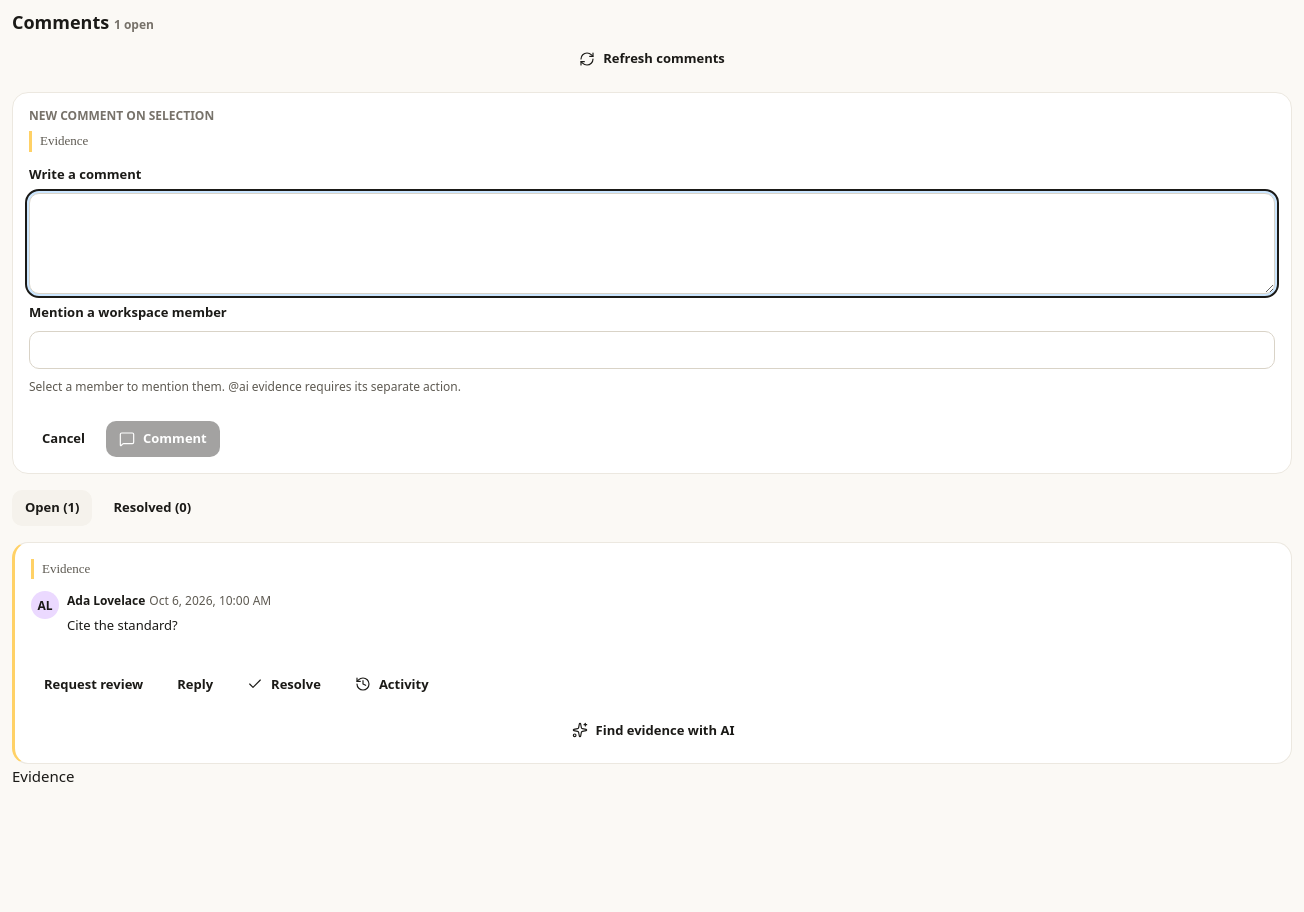
Test: retains a failed draft and retries with the same comment id, then clears it on cancel
Type "Keep my draft" into the text box labelled "Write a comment" at (652, 243), box [29,193,1275,294]
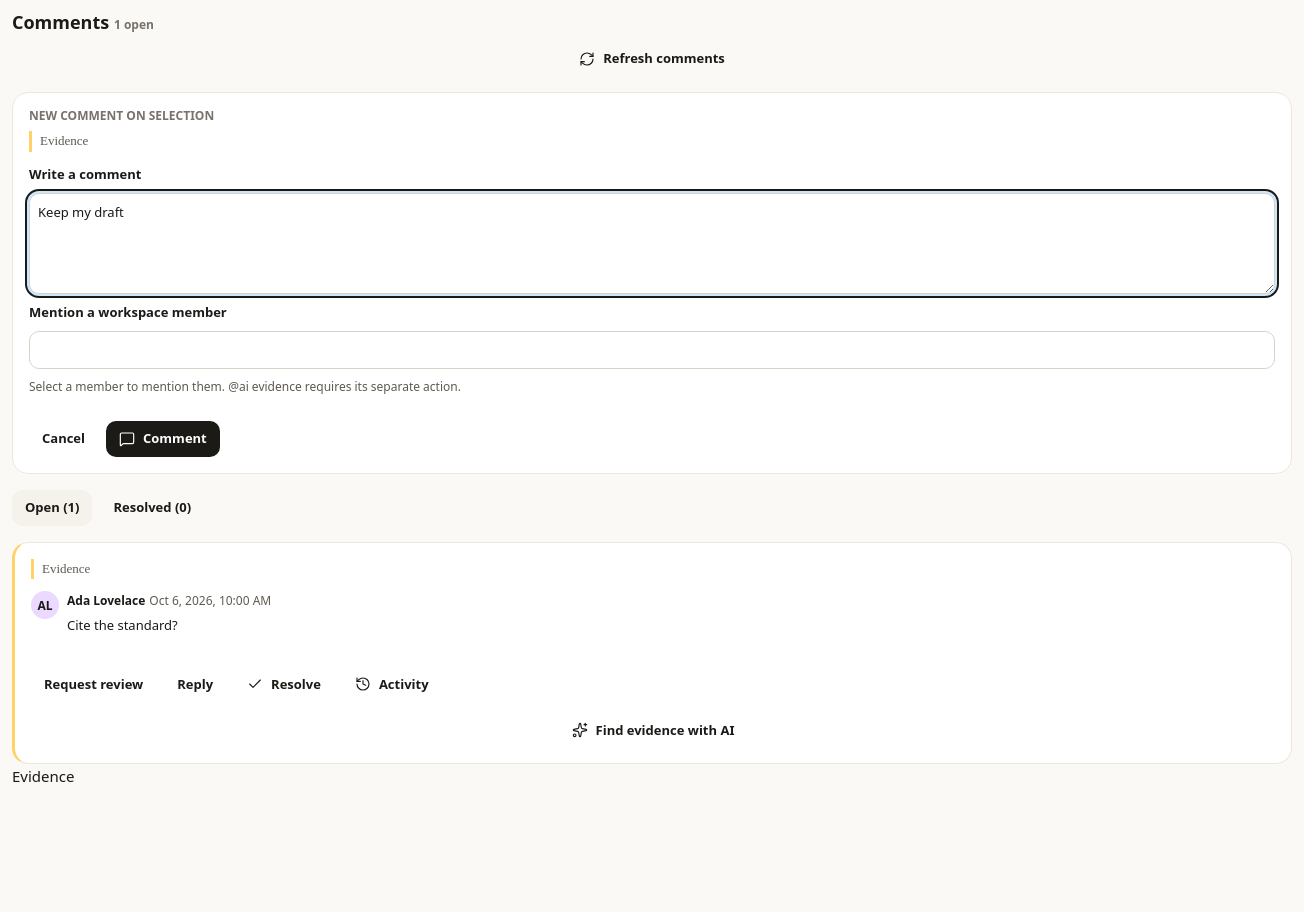
Click the button "Comment" at (163, 438), box [106,420,220,456]
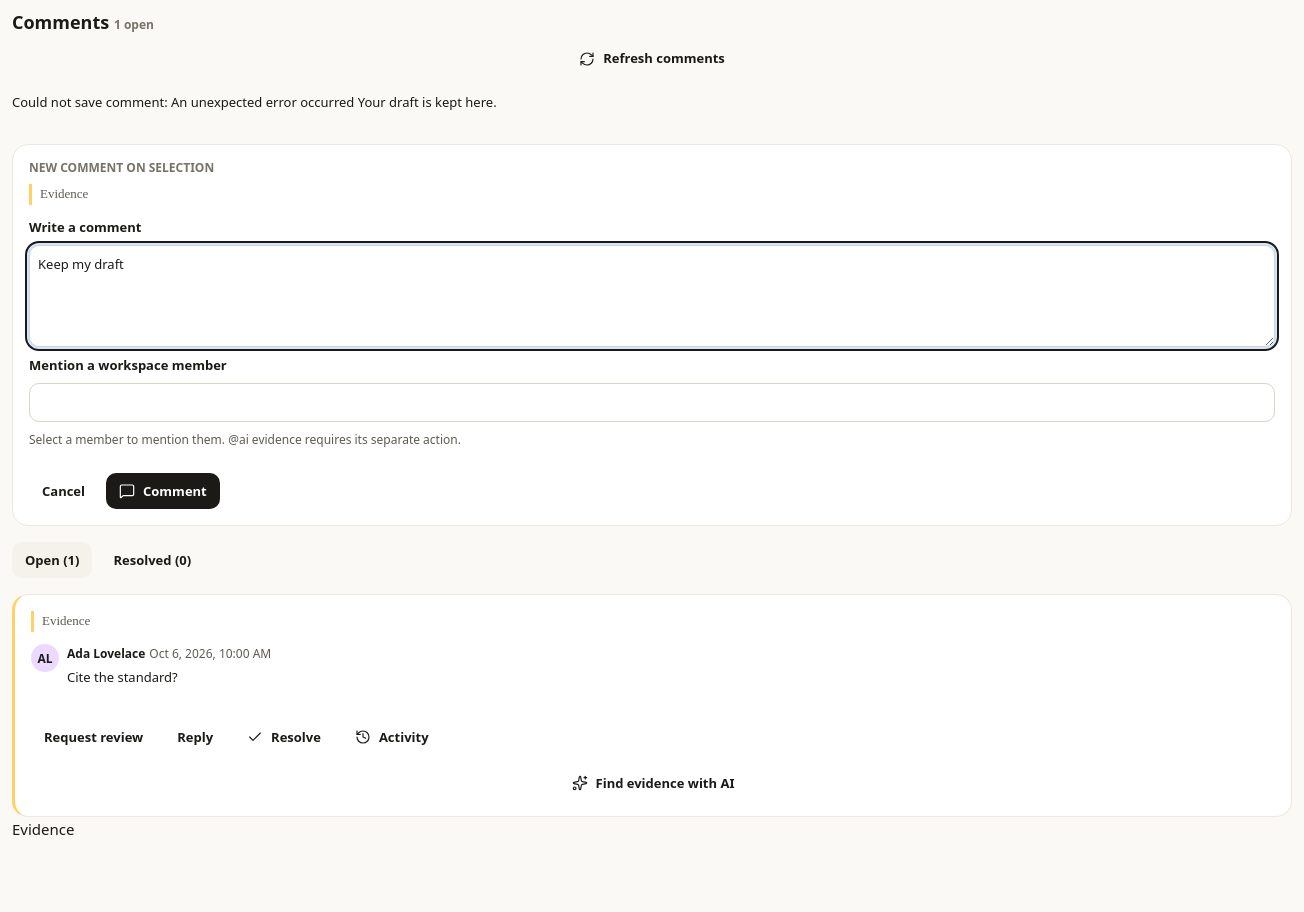
Expected: the message shows "Your draft is kept here", [358,93,497,111]
Click the button "Comment" at (163, 491), box [106,473,220,509]
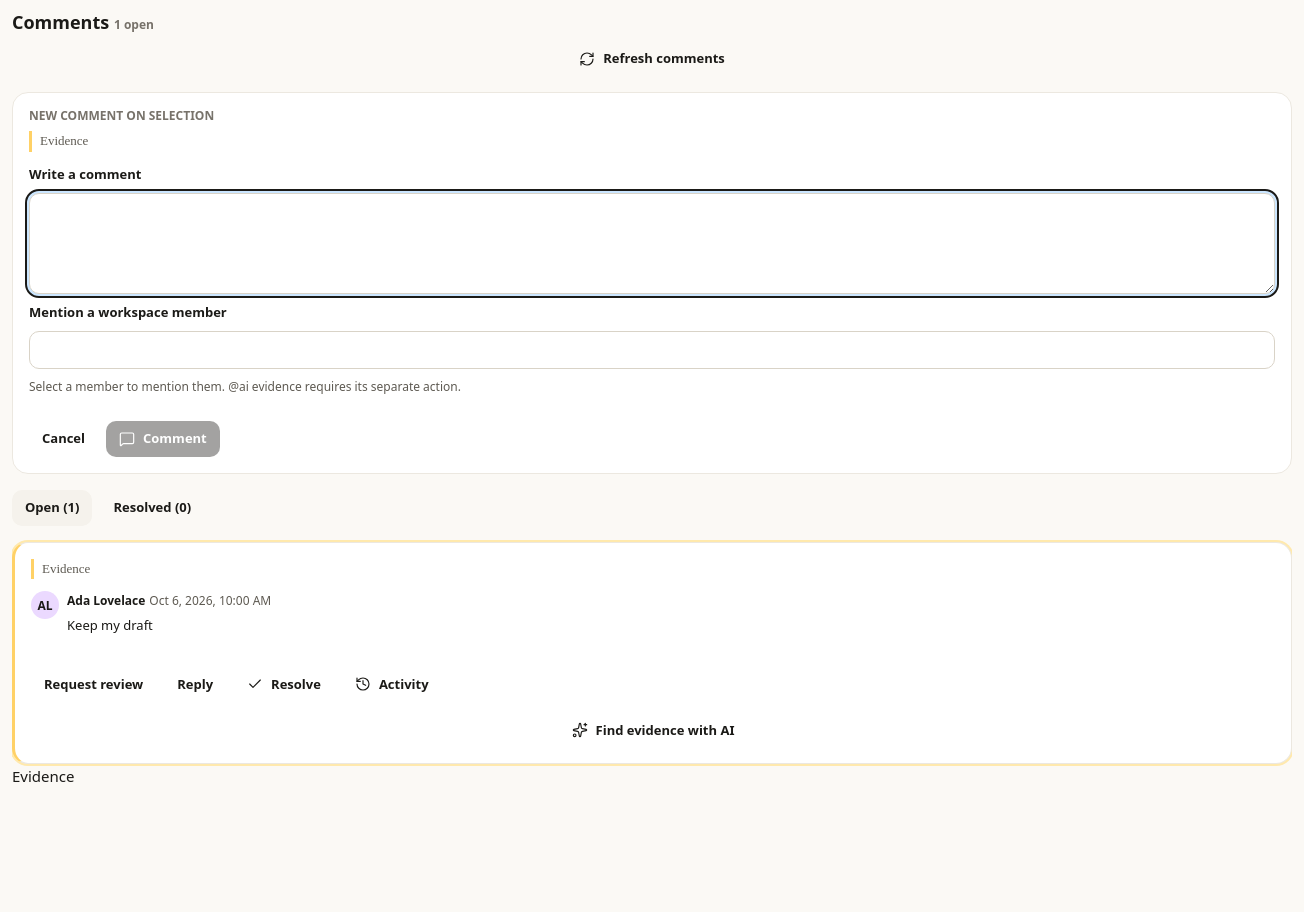
Type "New draft" into the text box labelled "Write a comment" at (652, 243), box [29,193,1275,294]
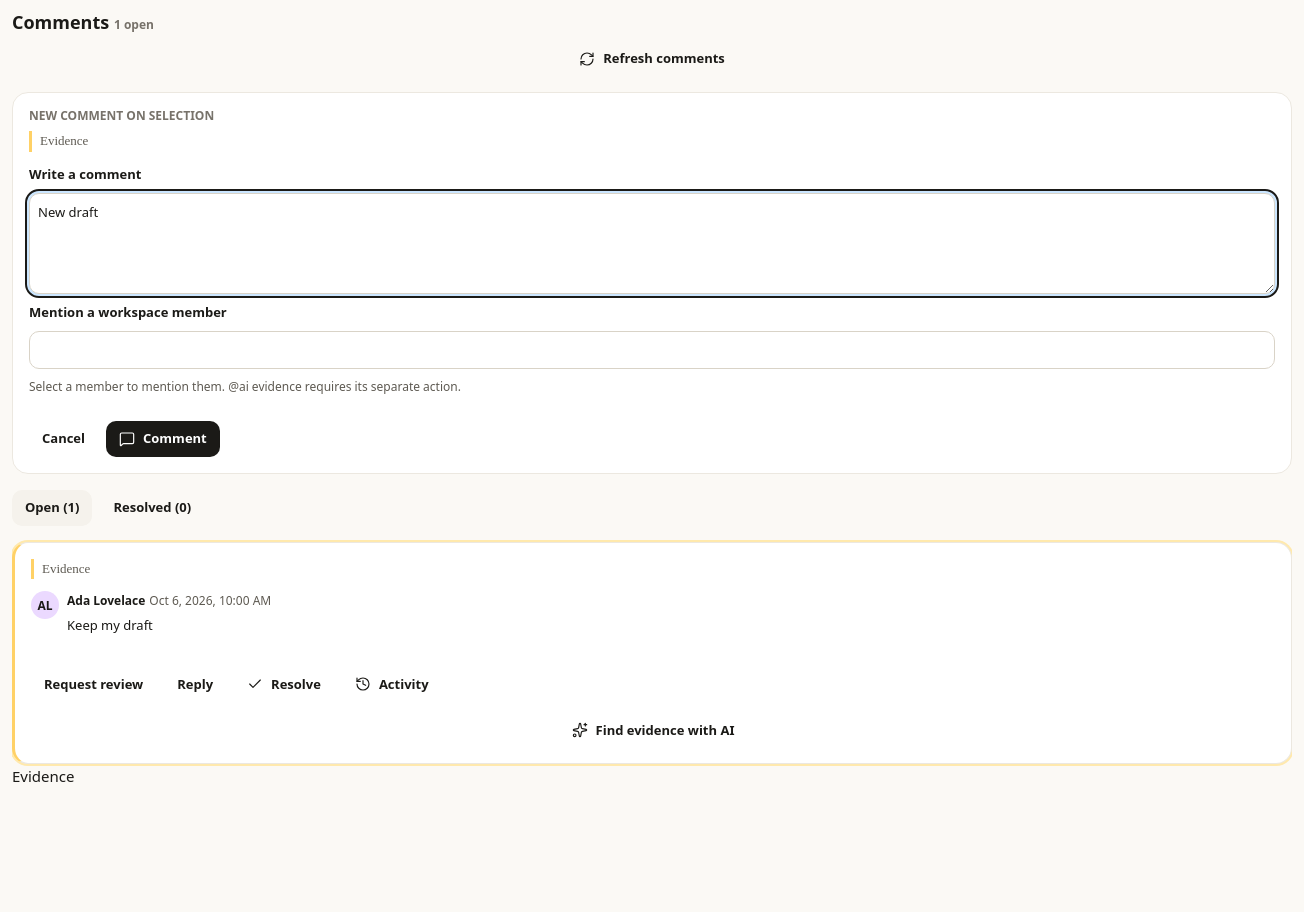
Click the button "Cancel" at (64, 438), box [29,420,98,456]
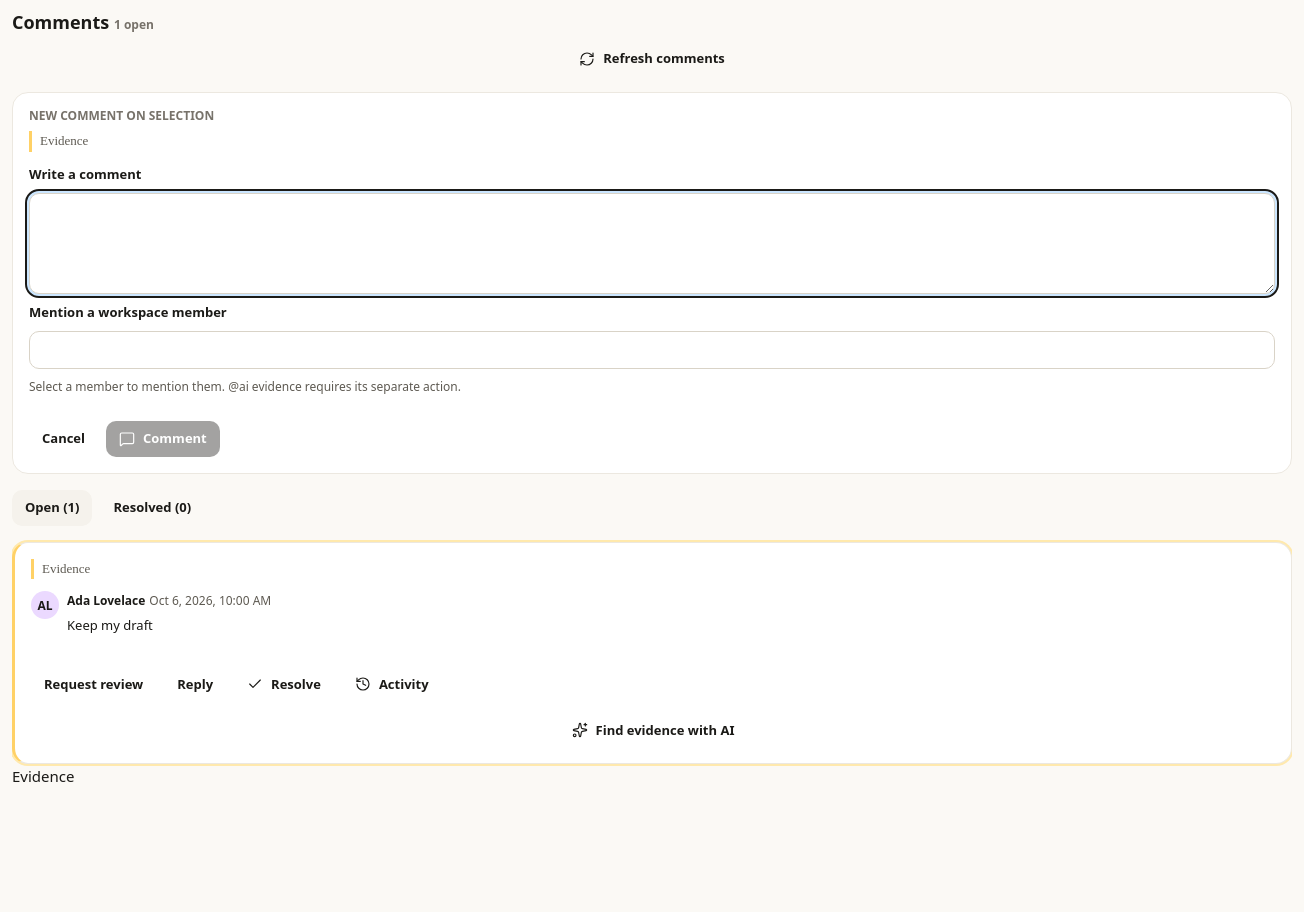
Expected: the text box labelled "Write a comment" is empty, [29,193,1275,294]
